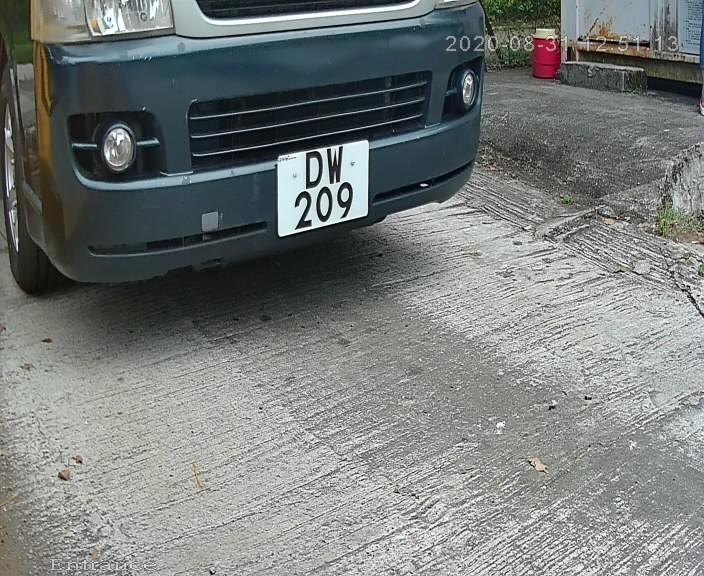License Plate: (265, 137, 381, 237)
